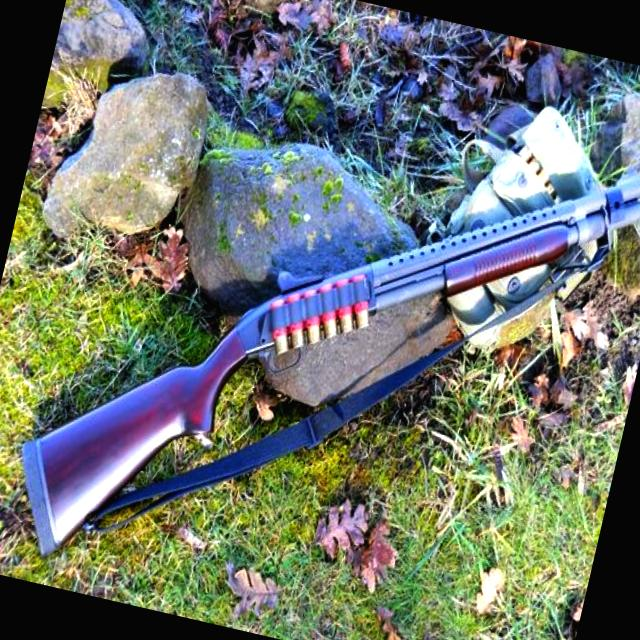shotgun: (0, 42, 640, 640)
